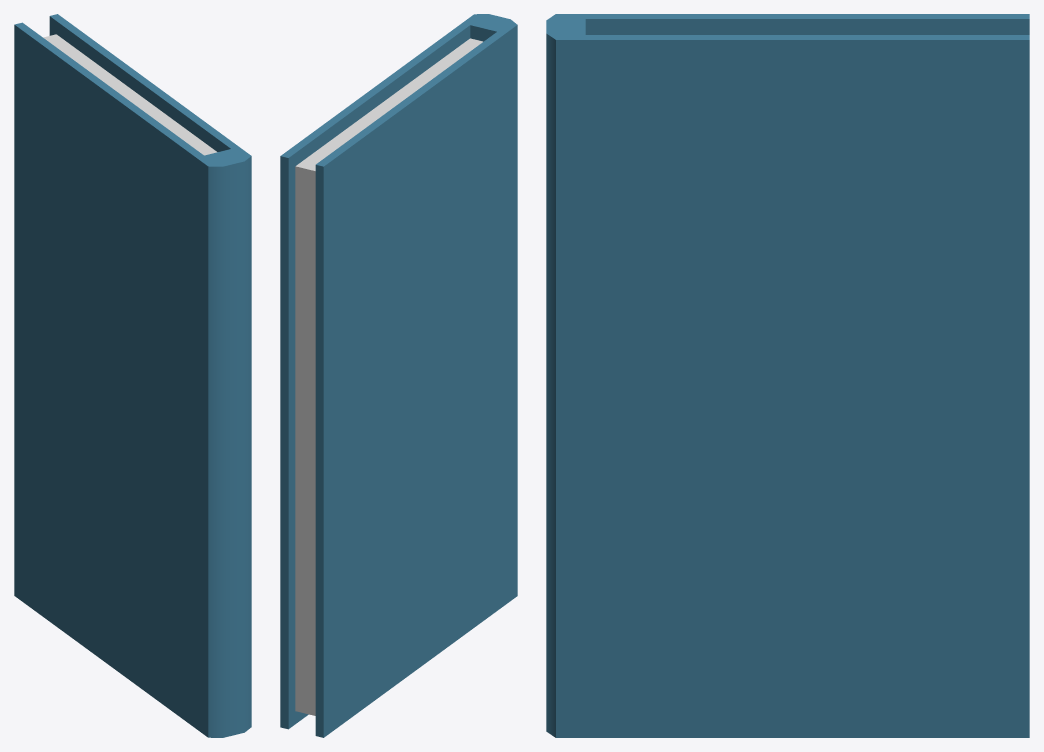
Rendered from book2.fbx.
The picture shows the model from 3 angles, left to right: view 1: azimuth 30°, elevation 25°; view 2: azimuth 150°, elevation 25°; view 3: azimuth 270°, elevation 25°; orthographic projection. The views are drawn at different scales.
Parts seen in each view (by area): view 1: book2; view 2: book2; view 3: book2.
Part boxes in pixels (x1=…): book2: x1=14, y1=14, x2=251, y2=737; book2: x1=280, y1=14, x2=517, y2=737; book2: x1=546, y1=14, x2=1029, y2=737.
Bounding box in the file's own units: 3.61 × 45.5 × 28.55.
